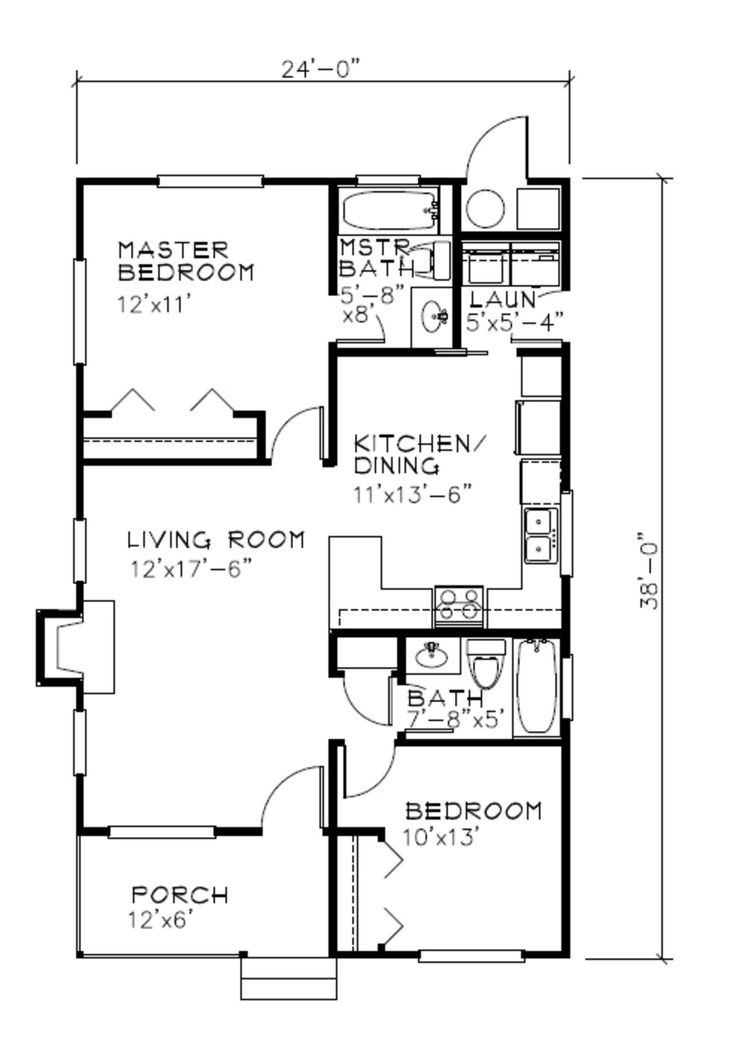door: (255, 752, 336, 844), (332, 654, 411, 739), (457, 96, 553, 165), (500, 279, 579, 342), (332, 738, 402, 804), (270, 400, 336, 467)
room: (315, 163, 579, 638), (65, 463, 337, 842), (66, 146, 347, 476), (323, 720, 582, 963), (320, 615, 570, 747)
wall: (547, 728, 579, 963), (321, 617, 568, 647), (531, 155, 573, 304), (60, 452, 281, 473), (552, 333, 578, 496), (394, 731, 578, 754), (329, 731, 347, 962), (445, 183, 470, 344), (449, 218, 558, 252), (318, 336, 345, 470), (23, 591, 55, 699), (70, 373, 92, 521), (321, 184, 350, 292), (263, 168, 353, 194), (215, 818, 266, 859), (71, 771, 100, 839), (73, 171, 95, 260), (555, 578, 579, 659), (234, 399, 271, 449), (326, 346, 434, 363), (81, 173, 166, 192), (387, 629, 413, 684), (321, 626, 344, 684), (426, 165, 468, 189)
window: (415, 942, 528, 981), (544, 489, 592, 573), (163, 163, 265, 202), (99, 815, 216, 849)
